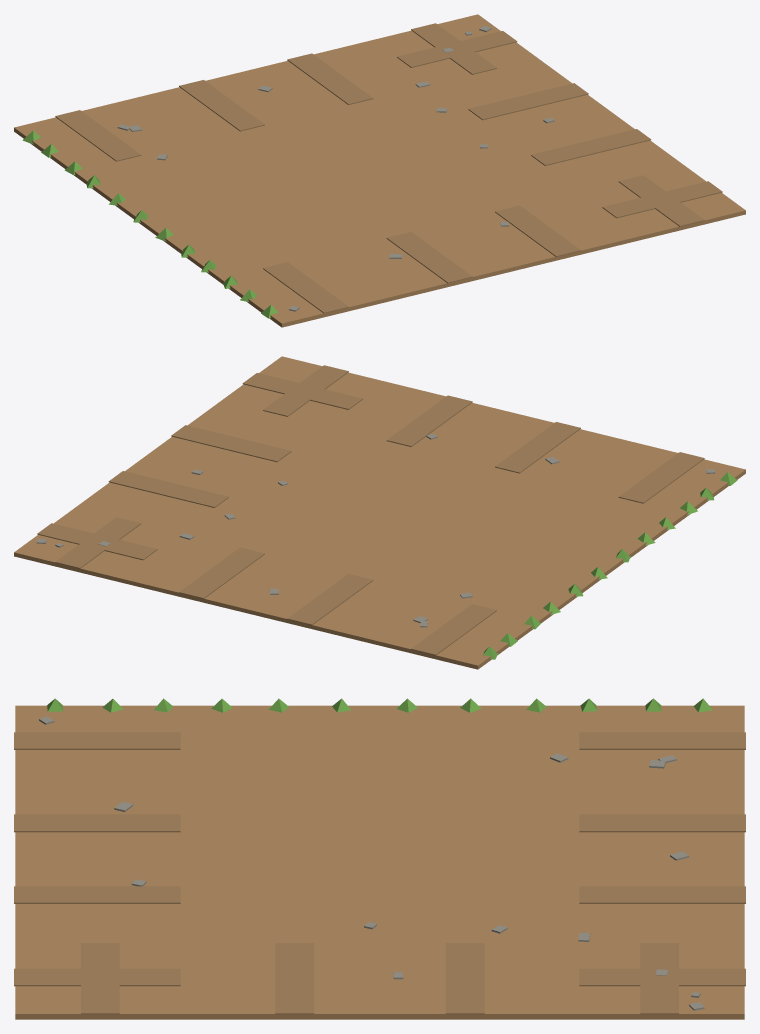
Rendered from road_dirt_twoway_t.glb.
3 renders of one model, top to bottom at view 1: azimuth 30°, elevation 25°; view 2: azimuth 150°, elevation 25°; view 3: azimuth 270°, elevation 25°, orthographic. The views are drawn at different scales.
Visible parts, largest first — view 1: road_dirt_twoway_t.001; view 2: road_dirt_twoway_t.001; view 3: road_dirt_twoway_t.001.
Boxes of the visible parts, x1,y1,x2,y2 form: road_dirt_twoway_t.001: (14,14,745,327); road_dirt_twoway_t.001: (14,356,745,669); road_dirt_twoway_t.001: (14,698,745,1019).
Bounding box in the file's own units: 6.08 × 0.14 × 6.02.
1 material, 1 textured.
